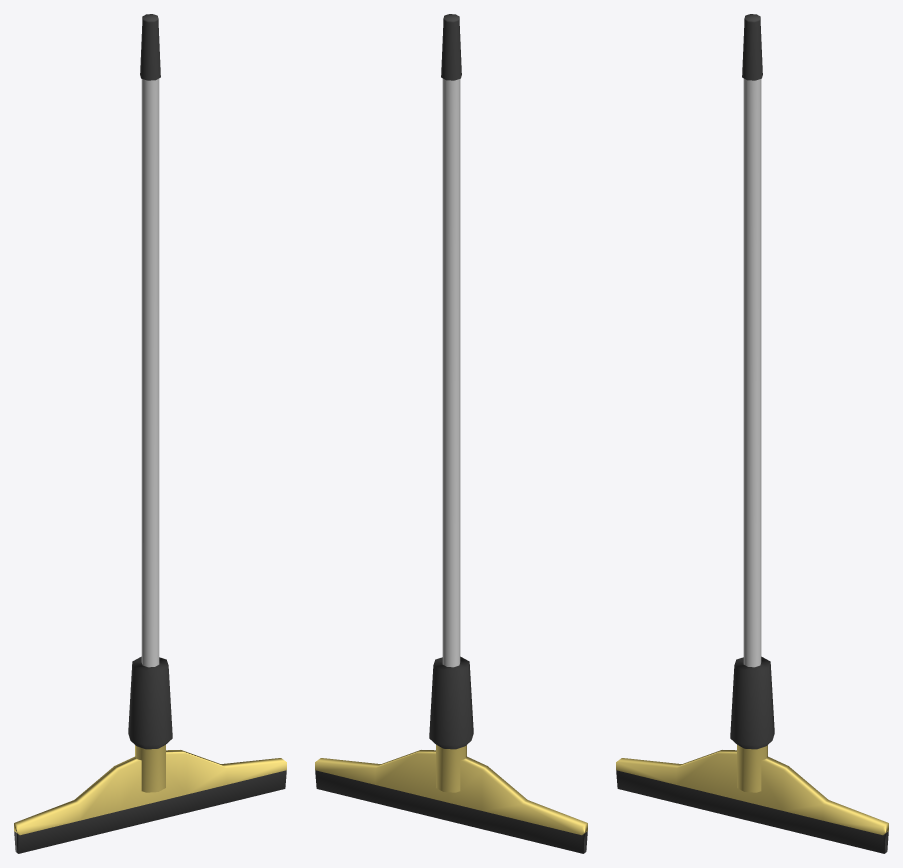
The model's file is mesh016_wiper.fbx.
The picture shows the model from 3 angles, left to right: view 1: azimuth 30°, elevation 25°; view 2: azimuth 150°, elevation 25°; view 3: azimuth 330°, elevation 25°; orthographic projection.
Parts seen in each view (by area): view 1: wiper; view 2: wiper; view 3: wiper.
Boxes of the visible parts, x1,y1,x2,y2 form: wiper: (14,14,286,853); wiper: (315,14,587,853); wiper: (616,14,888,853).
Bounding box in the file's own units: 4.87 × 13.99 × 0.7302.
